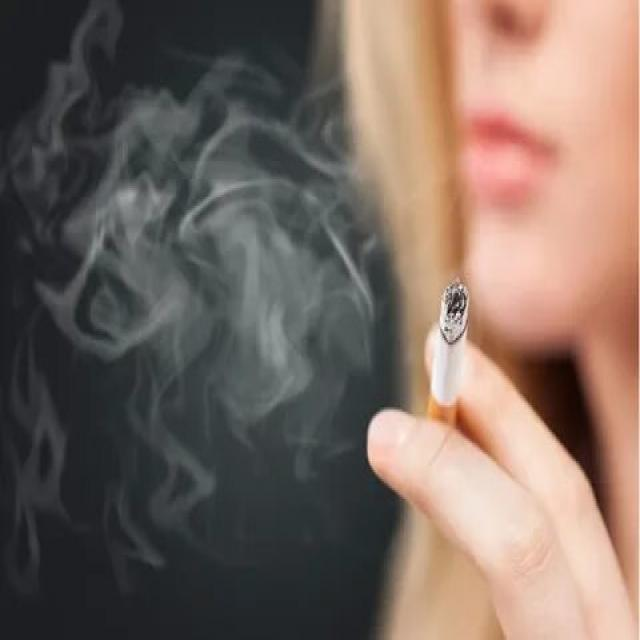smoke: (426, 273, 470, 450)
